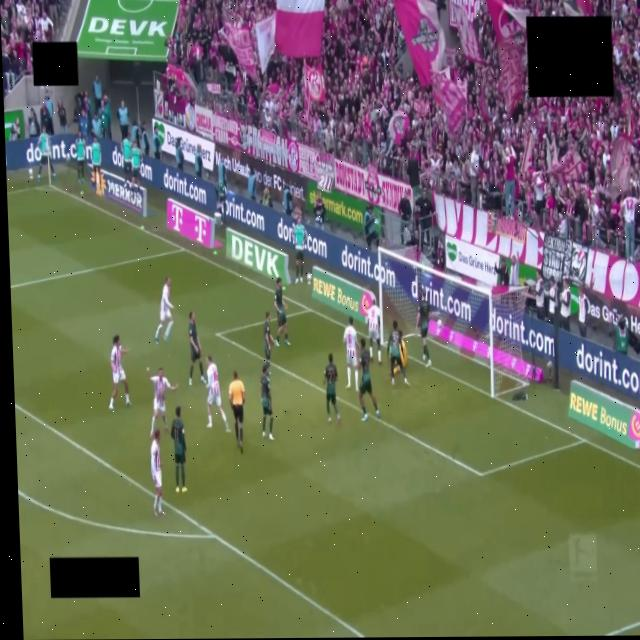player: (147, 368, 177, 436), (359, 338, 380, 421), (109, 334, 131, 409), (206, 357, 228, 430), (187, 311, 207, 385), (388, 320, 409, 385), (171, 406, 187, 491), (151, 430, 165, 515), (155, 277, 173, 343), (273, 277, 290, 346), (324, 353, 341, 422), (417, 288, 431, 367), (260, 363, 274, 440), (344, 317, 358, 390), (366, 305, 381, 364), (263, 312, 274, 373), (399, 328, 407, 367), (394, 366, 399, 374)
referee: (229, 371, 245, 453)
